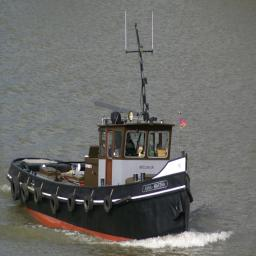tugboat: (5, 104, 195, 254)
